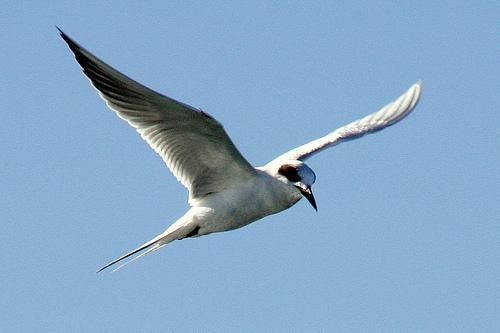bird: (55, 25, 424, 272)
